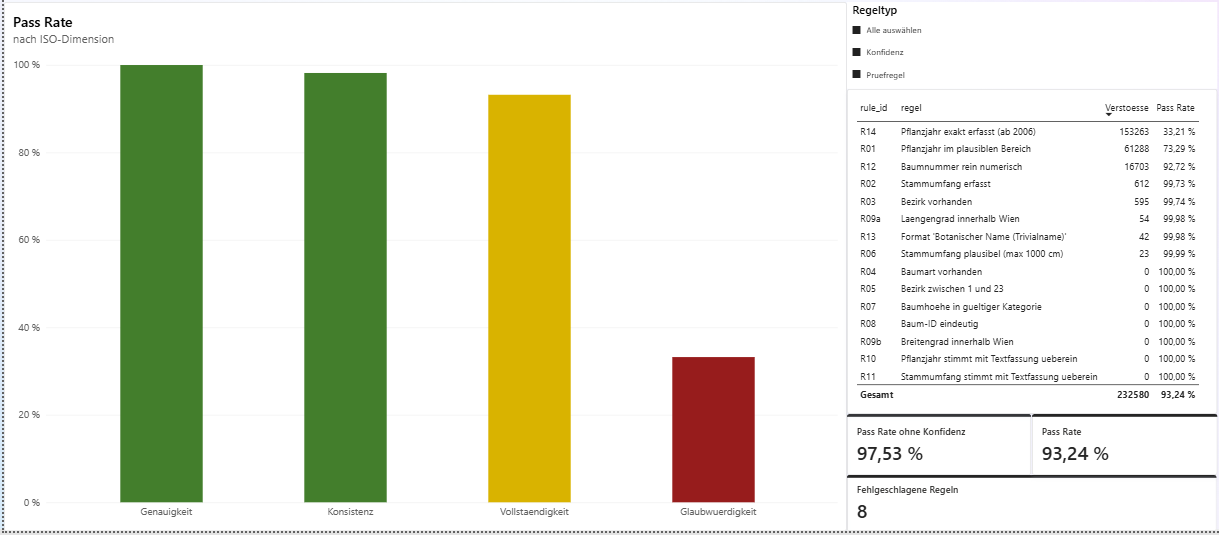

This screenshot's page, from the dashboard's own definition file:
{"tool":"powerbi","page":{"name":"Uebersicht","canvas":[1920,1080],"ordinal":0},"visuals":[{"type":"cardVisual","fields":{"Data":["dq_results.Pass Rate ohne Konfidenz"]},"box":[1204.7,912.3,263.7,87.9],"z":0},{"type":"cardVisual","fields":{"Data":["dq_results.Fehlgeschlagene Regeln"]},"box":[1204.7,1000.2,528.9,80.3],"z":1000},{"type":"clusteredColumnChart","fields":{"Category":["dq_results.iso_dimension"],"Y":["dq_results.Pass Rate"]},"box":[0,324.3,1204.3,755.7],"z":2000},{"type":"tableEx","fields":{"Values":["dq_results.rule_id","dq_results.regel","dq_results.Verstoesse","dq_results.Pass Rate"]},"box":[1204.3,448.6,528.6,464.3],"z":3000},{"type":"slicer","fields":{"Values":["dq_results.Regeltyp"]},"box":[1204.7,324.3,528.9,124.3],"z":4000},{"type":"cardVisual","fields":{"Data":["dq_results.Pass Rate"]},"box":[1468.4,912.3,265.2,87.9],"z":5000},{"type":"actionButton","box":[0,0,100,40],"z":6000}]}

Visuals, with their boxes on the page's 1920x1080 design canvas (x1, y1, x2, y2). These are canvas units, not pixel positions in the 1219x535 screenshot, which may show the page scaled, cropped or inside an application window:
cardVisual - dq_results.Pass Rate ohne Konfidenz: [1205, 912, 1468, 1000]
cardVisual - dq_results.Fehlgeschlagene Regeln: [1205, 1000, 1734, 1080]
clusteredColumnChart - dq_results.iso_dimension x dq_results.Pass Rate: [0, 324, 1204, 1080]
tableEx - dq_results.rule_id x dq_results.regel: [1204, 449, 1733, 913]
slicer - dq_results.Regeltyp: [1205, 324, 1734, 449]
cardVisual - dq_results.Pass Rate: [1468, 912, 1734, 1000]
actionButton: [0, 0, 100, 40]
